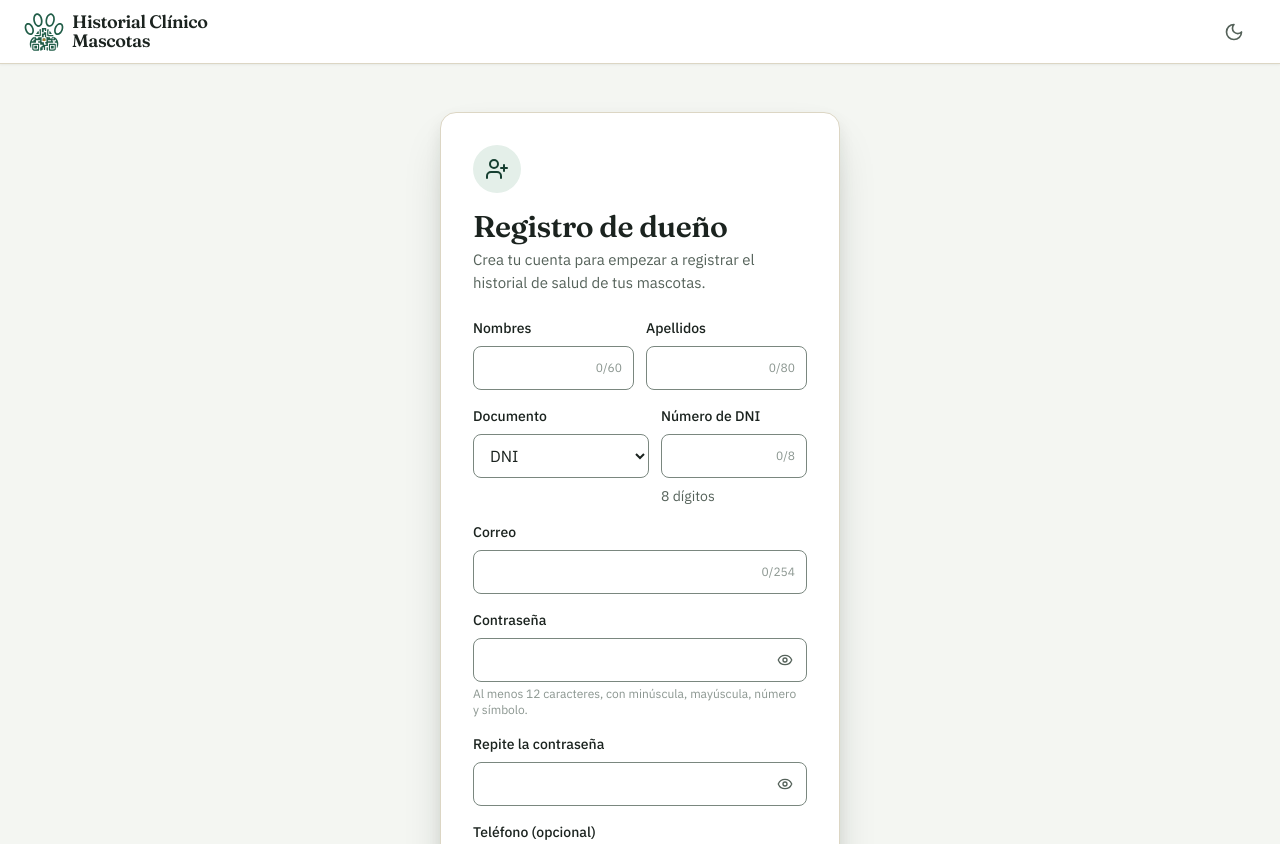
Test: PaginaRegistro: entradas con lógica real › al elegir pasaporte admite letras y números, en mayúsculas, hasta 12
Select "Pasaporte" in the dropdown labelled "Documento" at (561, 456), box [473, 434, 649, 478]
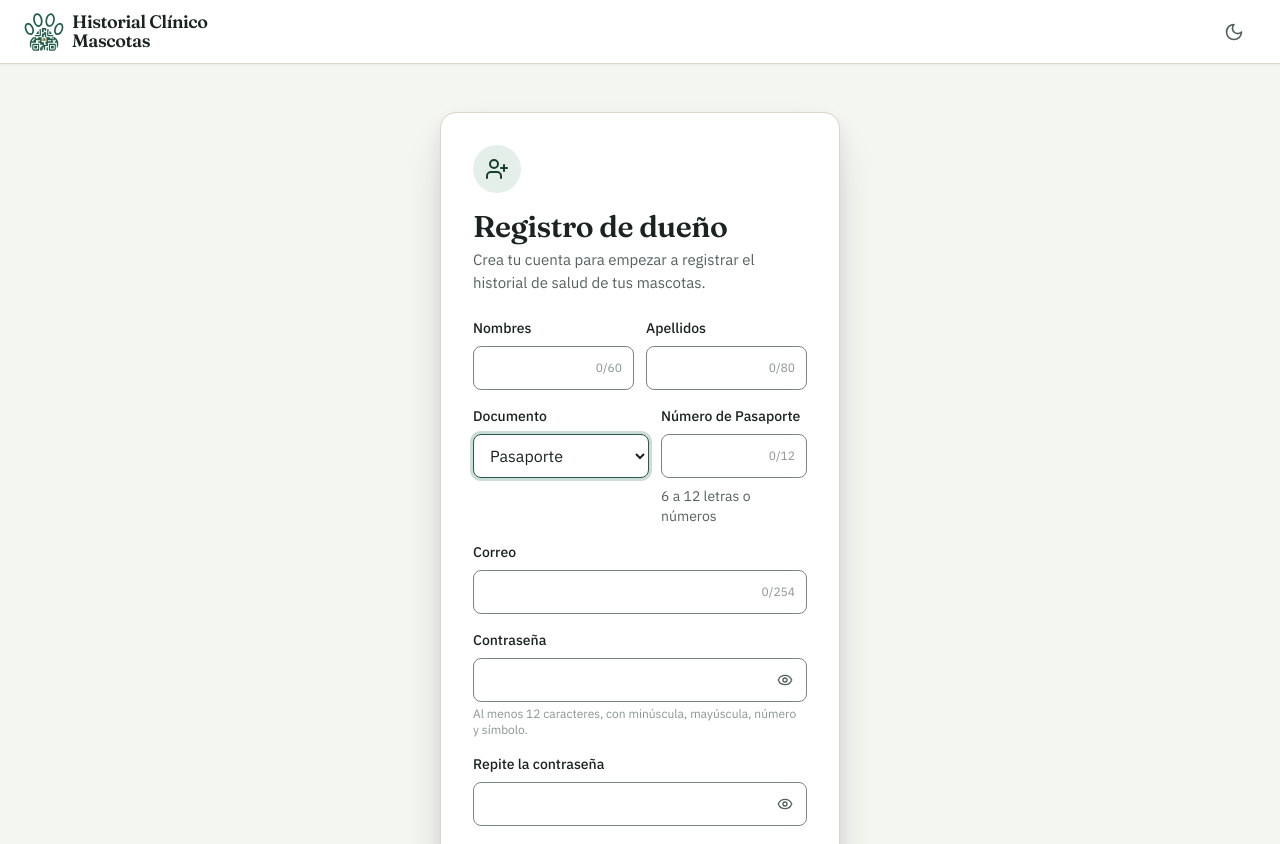
Type "ab-123456xyz99" into the field labelled "Número de Pasaporte" at (734, 456), box [661, 434, 807, 478]
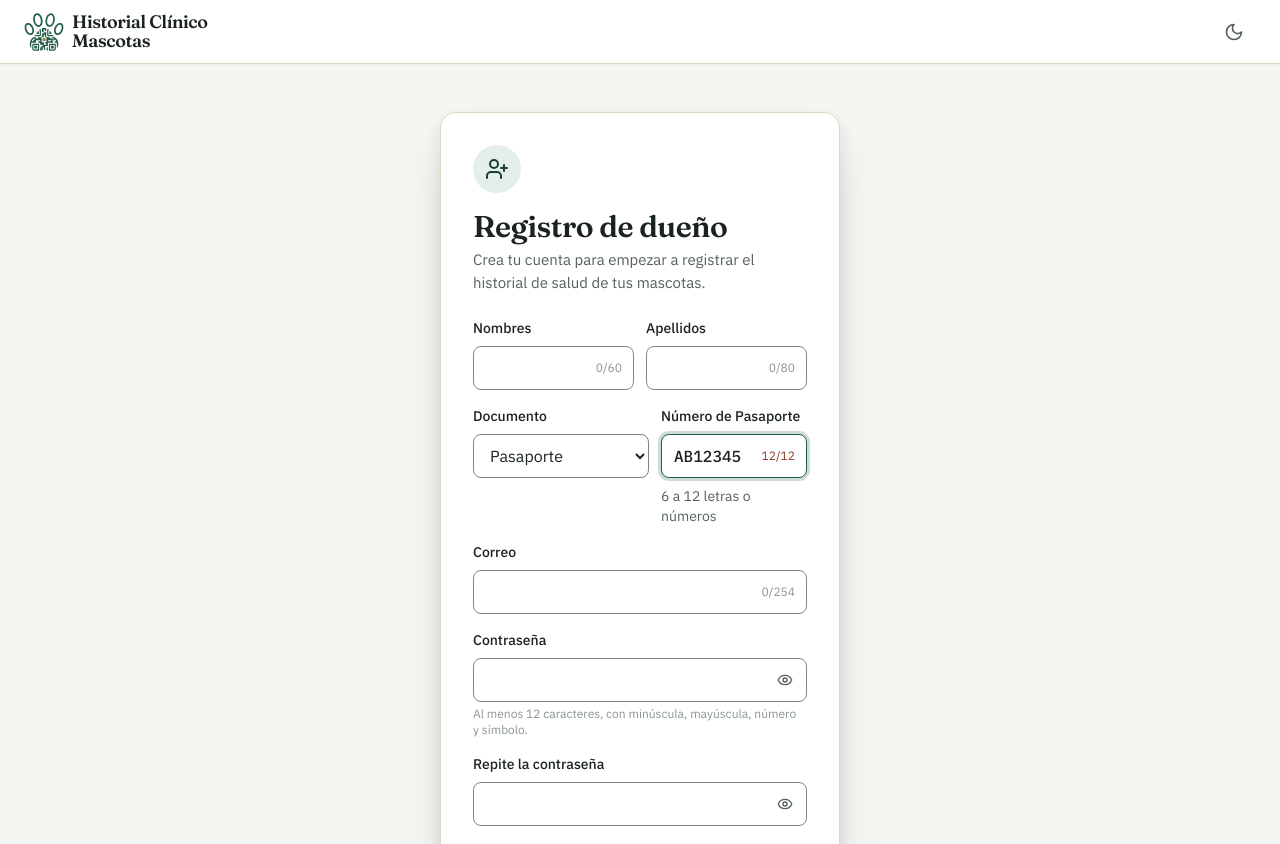
Expected: the field labelled "Número de Pasaporte" holds "AB123456XYZ9", [661, 434, 807, 478]
